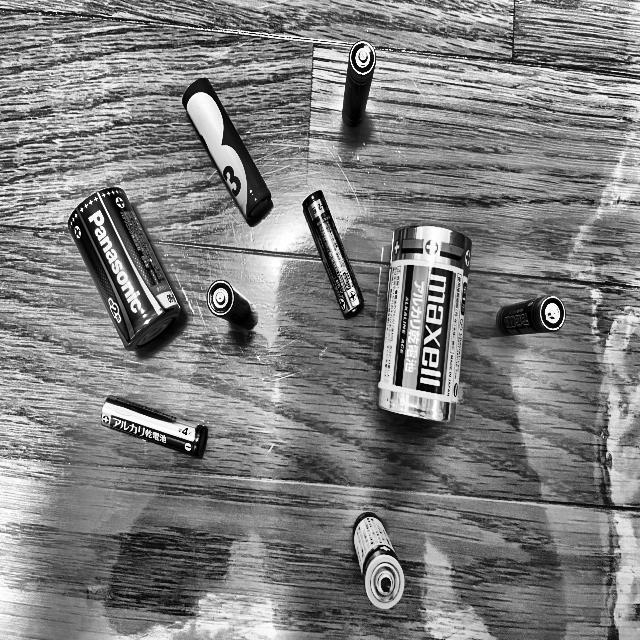drycell: (374, 213, 472, 434), (65, 181, 186, 356), (177, 75, 275, 227), (297, 182, 369, 324), (343, 507, 426, 622), (98, 395, 214, 469), (491, 284, 569, 358), (333, 38, 381, 132), (196, 278, 256, 343)
